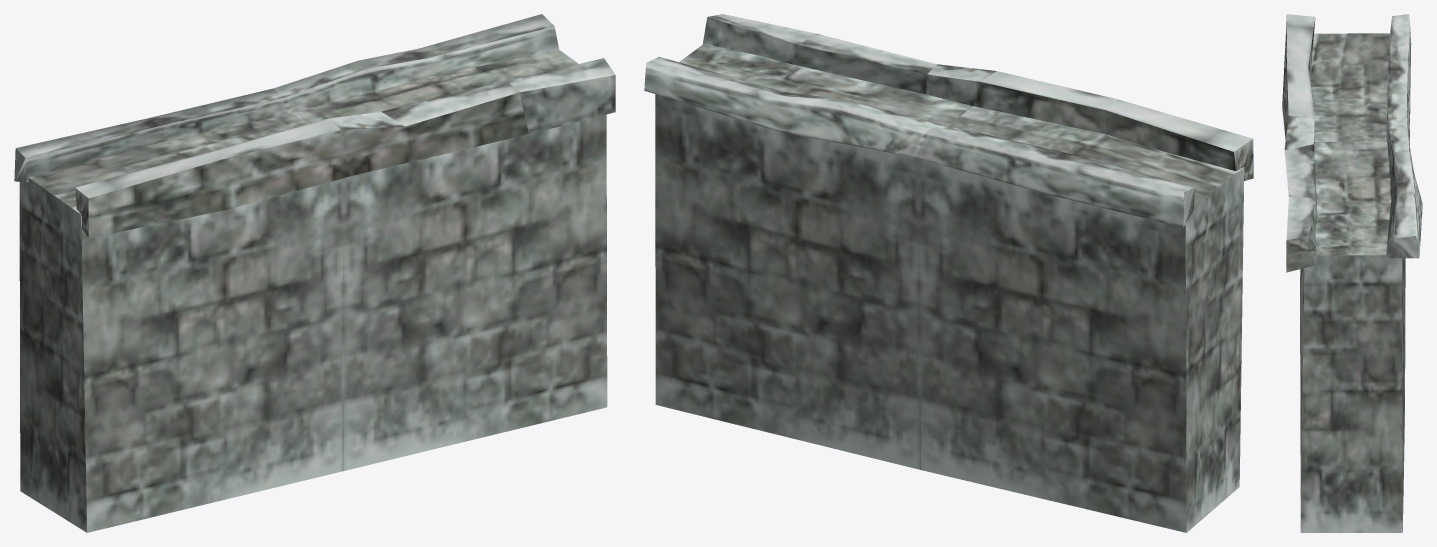
The model's file is S_Build_Snowland107.FBX.
3 views of the same model, side by side, from view 1: azimuth 30°, elevation 25°; view 2: azimuth 150°, elevation 25°; view 3: azimuth 270°, elevation 25° (orthographic). The views are drawn at different scales.
Parts seen in each view (by area): view 1: S_Build_Snowland107; view 2: S_Build_Snowland107; view 3: S_Build_Snowland107.
Boxes of the visible parts, x1,y1,x2,y2 form: S_Build_Snowland107: [14, 14, 615, 532]; S_Build_Snowland107: [644, 14, 1253, 532]; S_Build_Snowland107: [1282, 14, 1422, 532].
Size of the model in its own units: 800 by 212 by 503.
